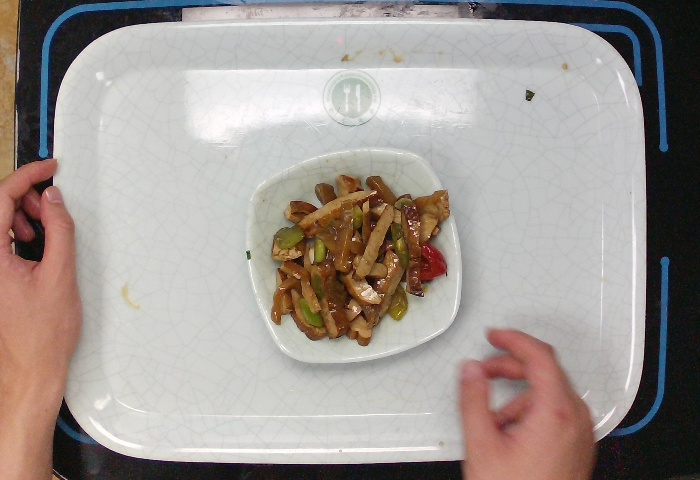WCQzf-Da_Si_Fang_Die: (242, 144, 465, 365)
